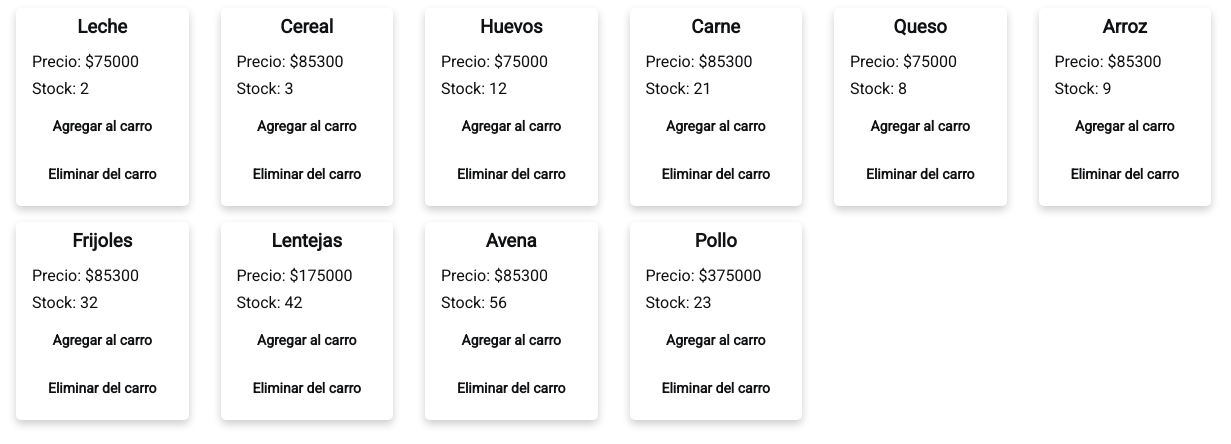
Test: Add first product to cart and check the stock after and before
Click the button "Agregar al carro" below "Leche": (102, 126) x1=32 y1=110 x2=172 y2=142
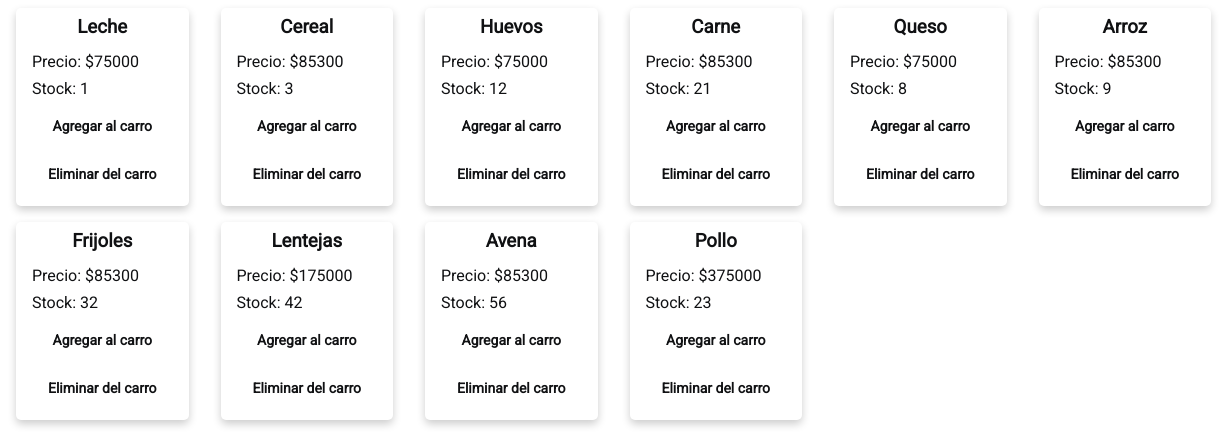
Expected: the text "Stock: 1" is shown, x1=32 y1=79 x2=89 y2=98
